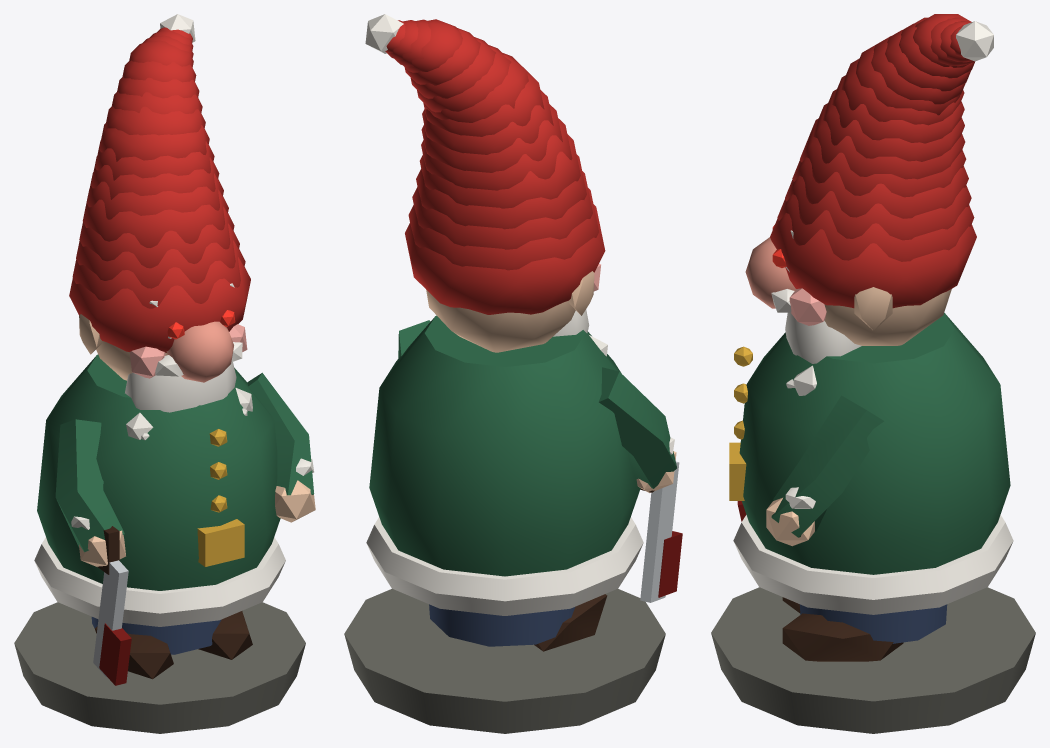
The model's file is gnome_knife.glb.
The picture shows the model from 3 angles, left to right: view 1: azimuth 30°, elevation 25°; view 2: azimuth 150°, elevation 25°; view 3: azimuth 270°, elevation 25°; orthographic projection. The views are drawn at different scales.
Visible parts, largest first — view 1: gnome_knife; view 2: gnome_knife; view 3: gnome_knife.
Part boxes in pixels (x1,y1,x2,y2): gnome_knife: (14, 14, 315, 733); gnome_knife: (344, 14, 682, 733); gnome_knife: (711, 14, 1035, 733).
Size of the model in its own units: 0.32 by 0.742 by 0.32.
